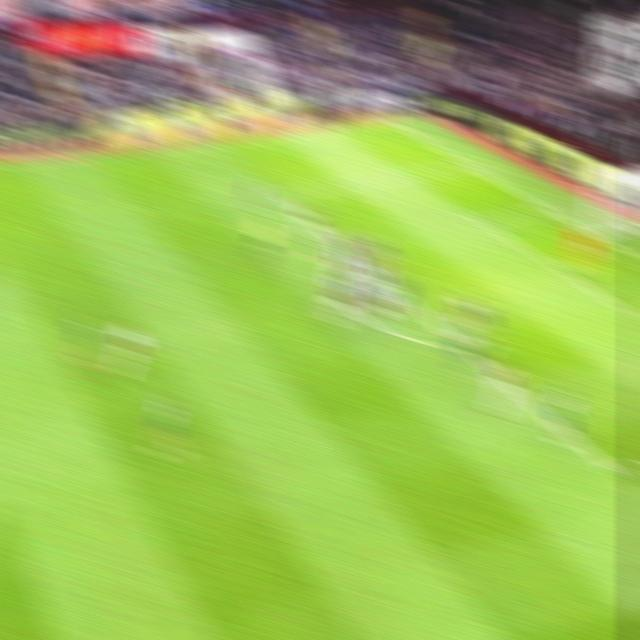bigarea_bottom_inner: (594, 451, 627, 485)
bigarea_top_inner: (264, 181, 292, 206)
bigarea_top_outter: (454, 154, 480, 173)
corner: (372, 111, 402, 126)
smallarea_top_inner: (467, 209, 495, 233)
smallarea_top_outter: (533, 199, 560, 219)
